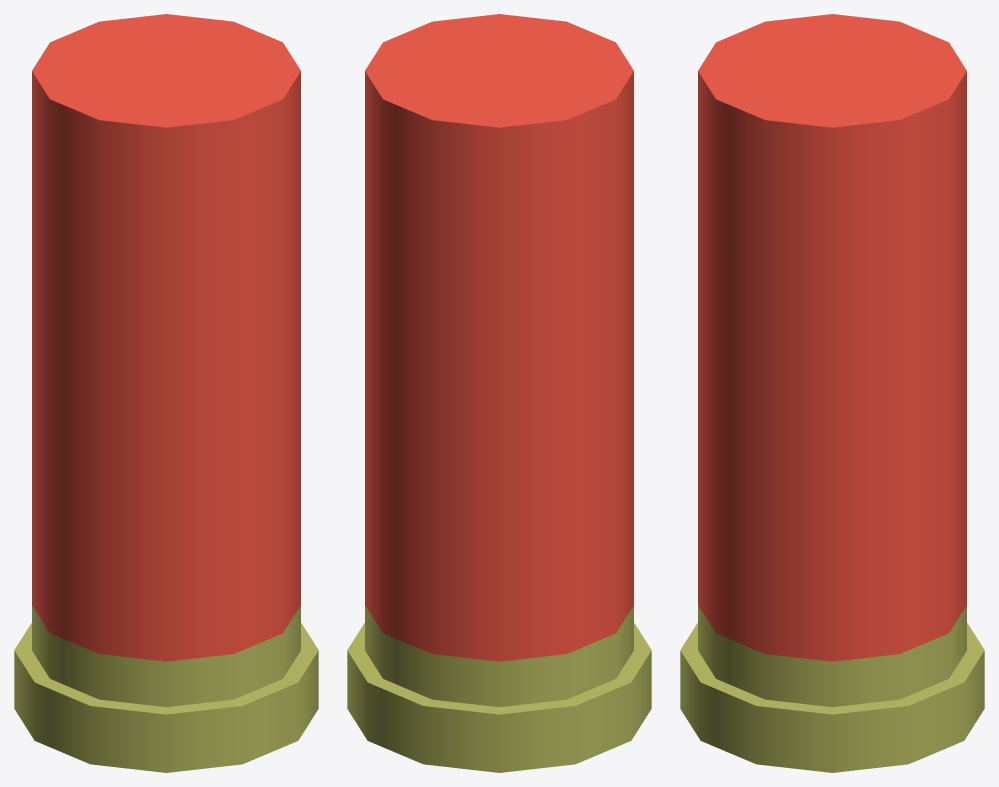
Rendered from Shot.fbx.
3 views of the same model, side by side, from view 1: azimuth 30°, elevation 25°; view 2: azimuth 150°, elevation 25°; view 3: azimuth 270°, elevation 25° (orthographic).
Parts seen in each view (by area): view 1: Shot; view 2: Shot; view 3: Shot.
Boxes of the visible parts, box(x1,y1,x2,y2) form: Shot: box(14, 14, 318, 772); Shot: box(347, 14, 651, 772); Shot: box(680, 14, 984, 772).
Bounding box in the file's own units: 0.0793 × 0.1832 × 0.0793.
